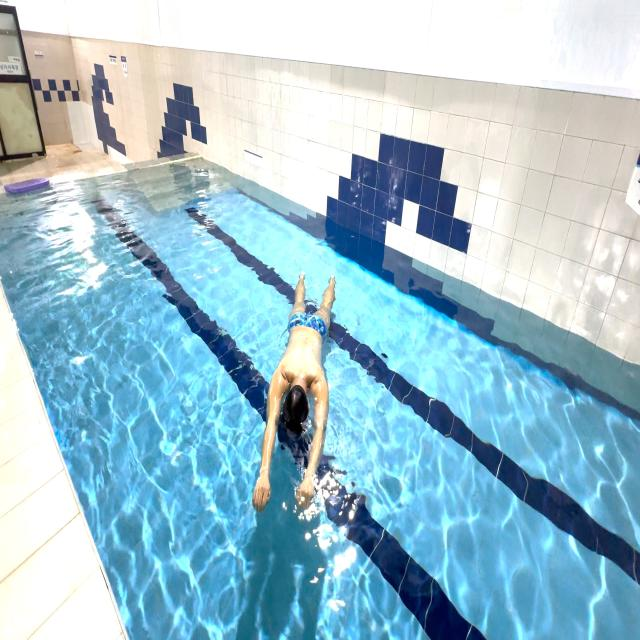Swimming: (241, 254, 350, 530)
